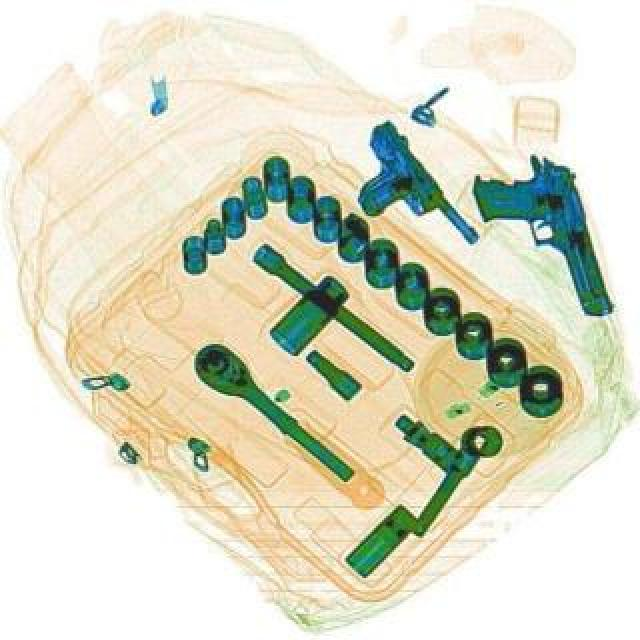gun: (464, 146, 614, 338), (320, 116, 484, 280)
